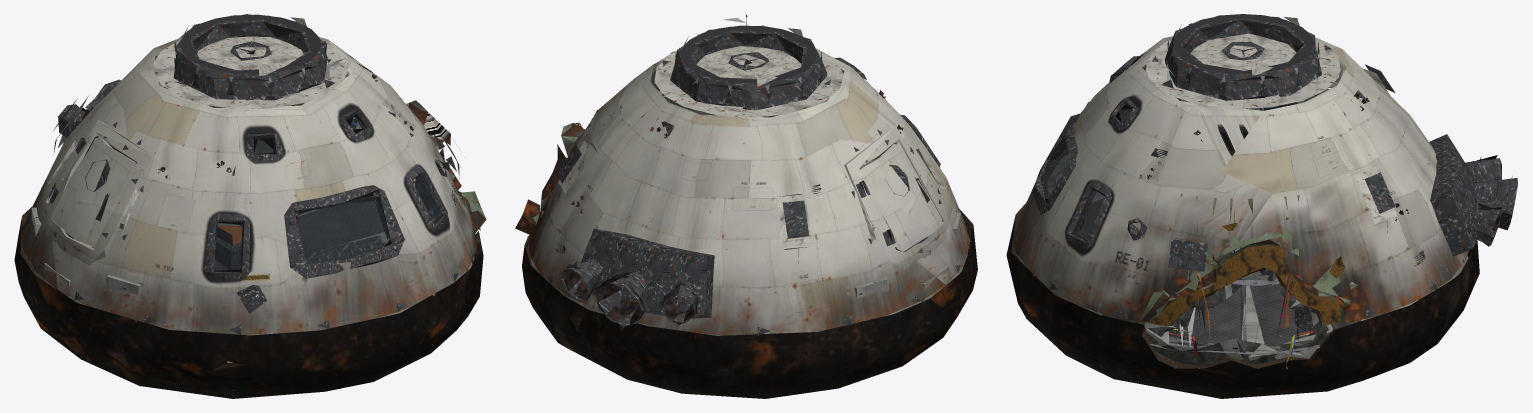
The model's file is capsule_shell_remnant_lod2.glb.
The picture shows the model from 3 angles, left to right: view 1: azimuth 30°, elevation 25°; view 2: azimuth 150°, elevation 25°; view 3: azimuth 270°, elevation 25°; orthographic projection. The views are drawn at different scales.
Visible parts, largest first — view 1: capsule_shell_remnant; view 2: capsule_shell_remnant; view 3: capsule_shell_remnant.
Part boxes in pixels (box(x1,y1,x2,y2)): capsule_shell_remnant: box(14, 14, 486, 398); capsule_shell_remnant: box(515, 14, 977, 398); capsule_shell_remnant: box(1006, 14, 1517, 398).
Size of the model in its own units: 3.93 by 2.83 by 4.24.
Materials: 38 (18 with a texture image).
